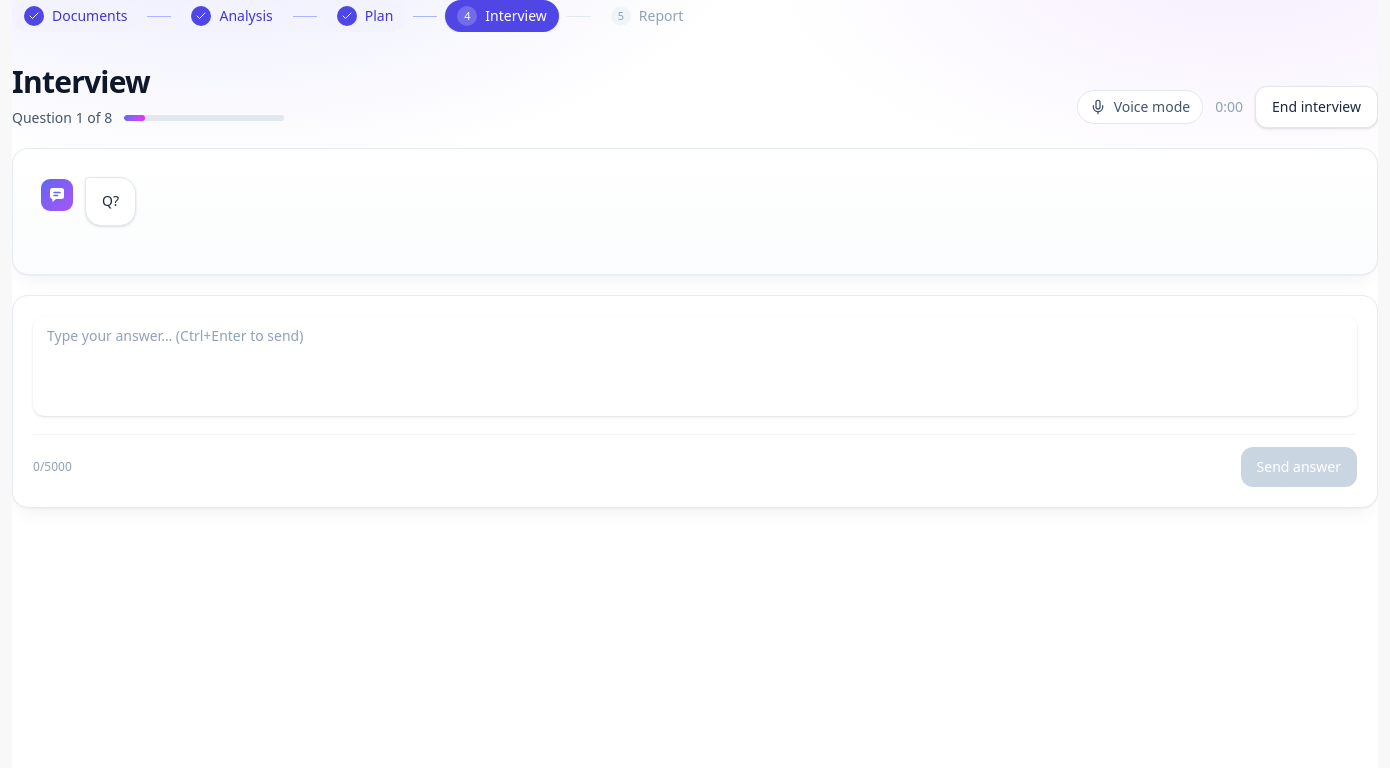
Scenario: voice mode in the interview room › cannot record while the next question is being prepared
Click the switch labelled "Voice mode" at (1140, 107), box [1077,90,1203,124]
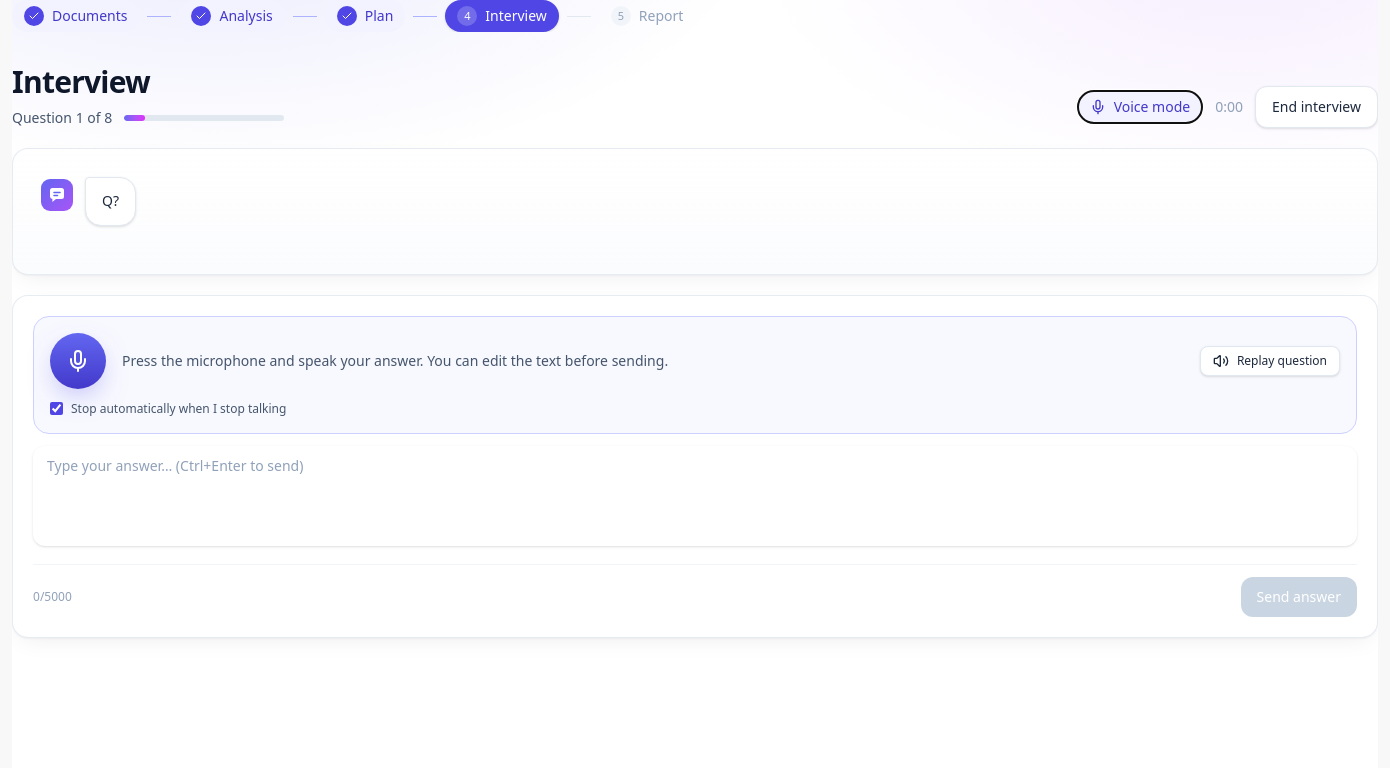
Click the button named "Record answer" at (78, 361), box [50,333,106,389]
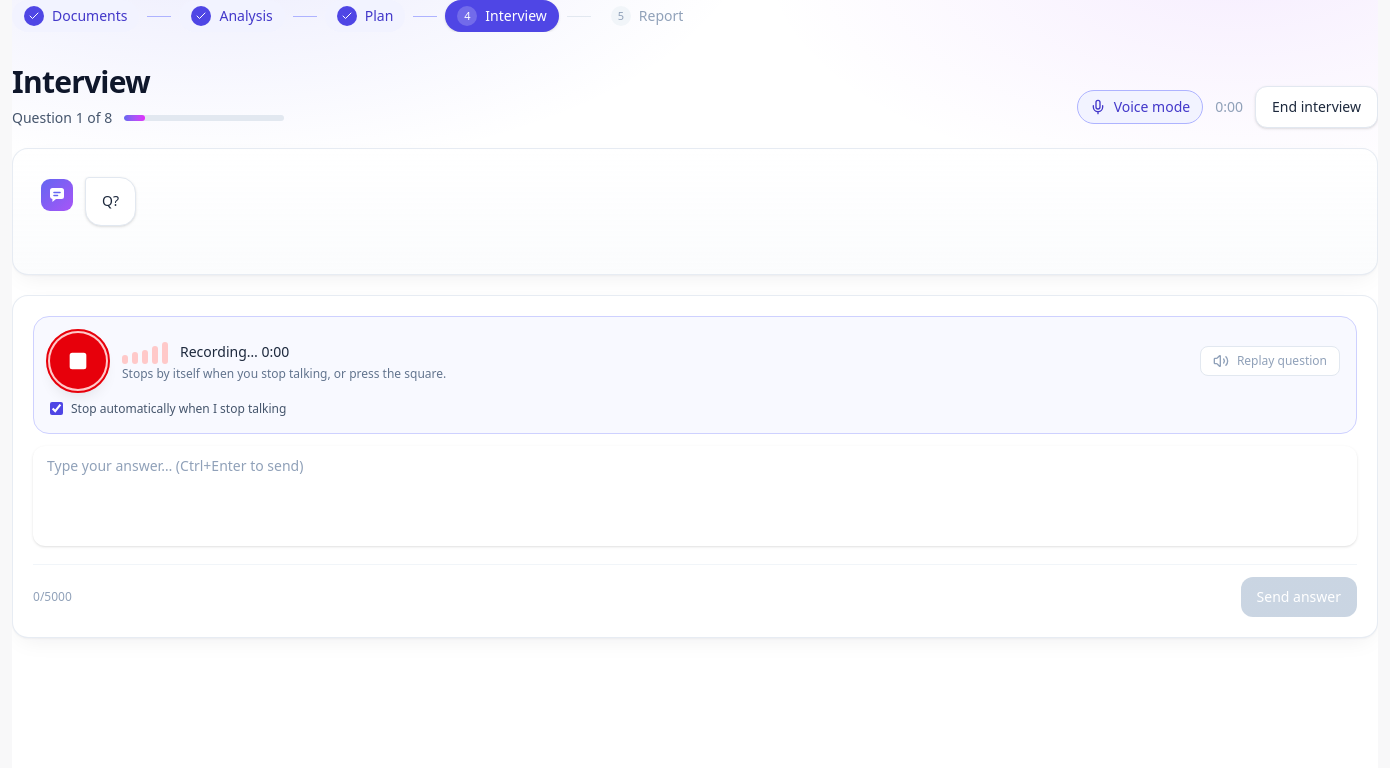
Type "my answer" into the text box labelled "your answer" at (695, 496), box [33,446,1357,546]
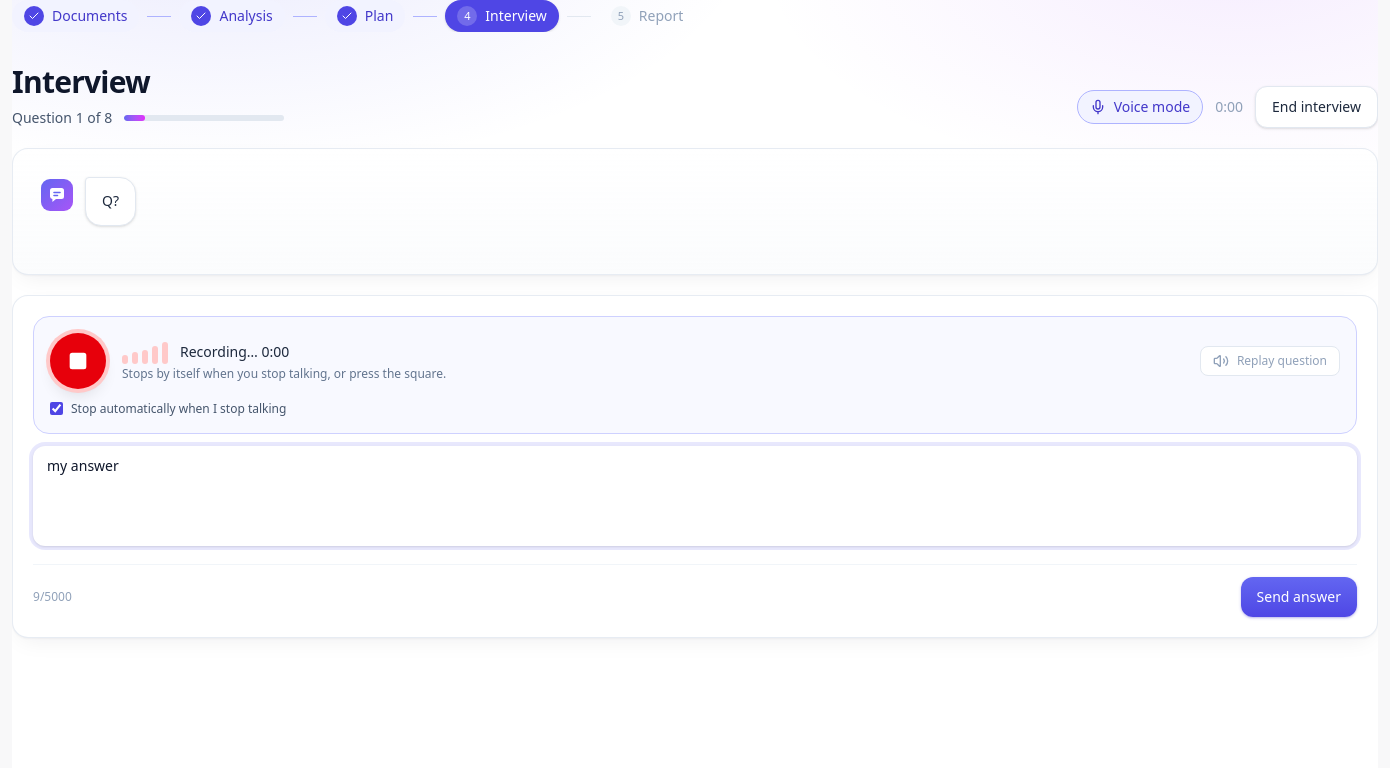
Click the button "Send answer" at (1299, 597), box [1241,577,1357,617]
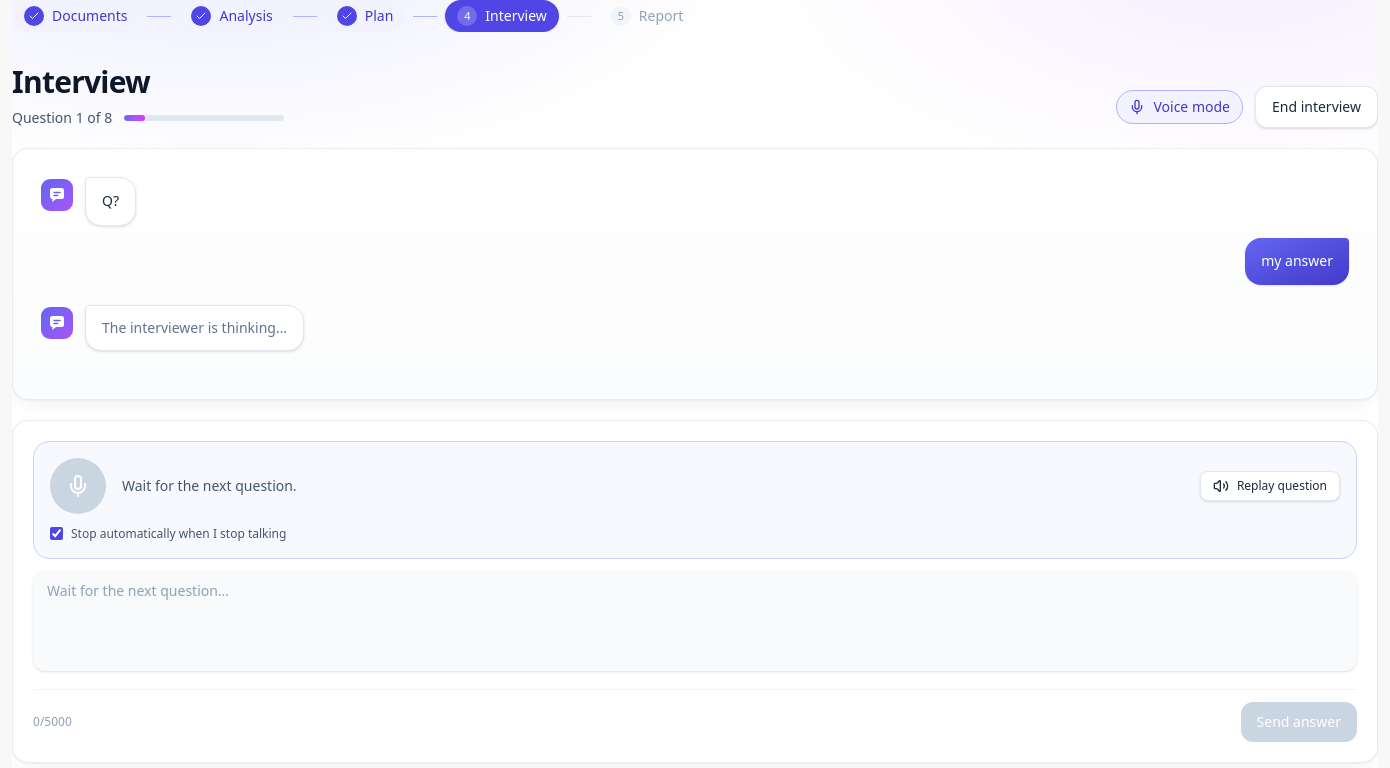
Check: the button named "Record answer" is disabled, box [50,458,106,514]
Check: the text "Wait for the next question." is shown, box [122,476,297,494]
